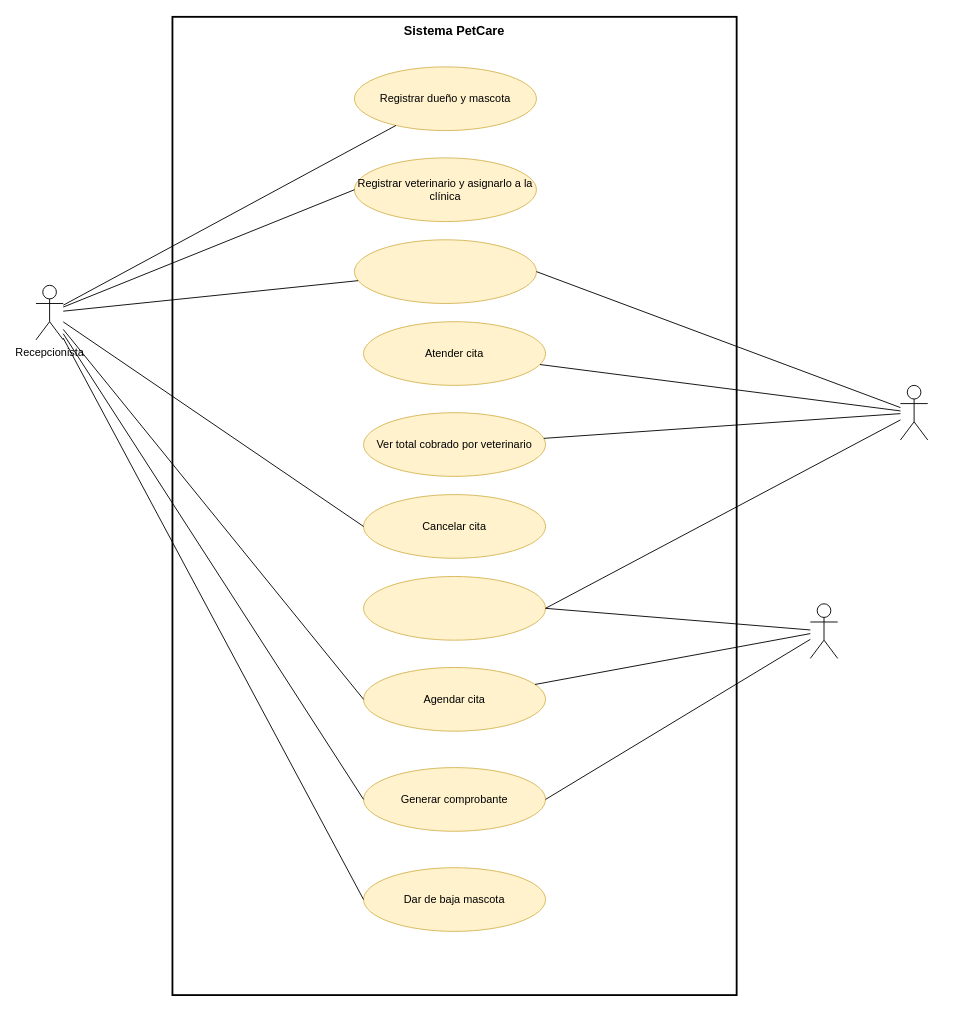
Some shapes in this 956 by 1011 pixel diagram are drawn without their labels. Each missing label, with the centre of its shape:
"Consultar historial clínico" goes at (x=454, y=608).
"Dueño" goes at (x=823, y=630).
"Listar mascotas y su sonido" goes at (x=445, y=271).
"Veterinario" goes at (x=914, y=412).
